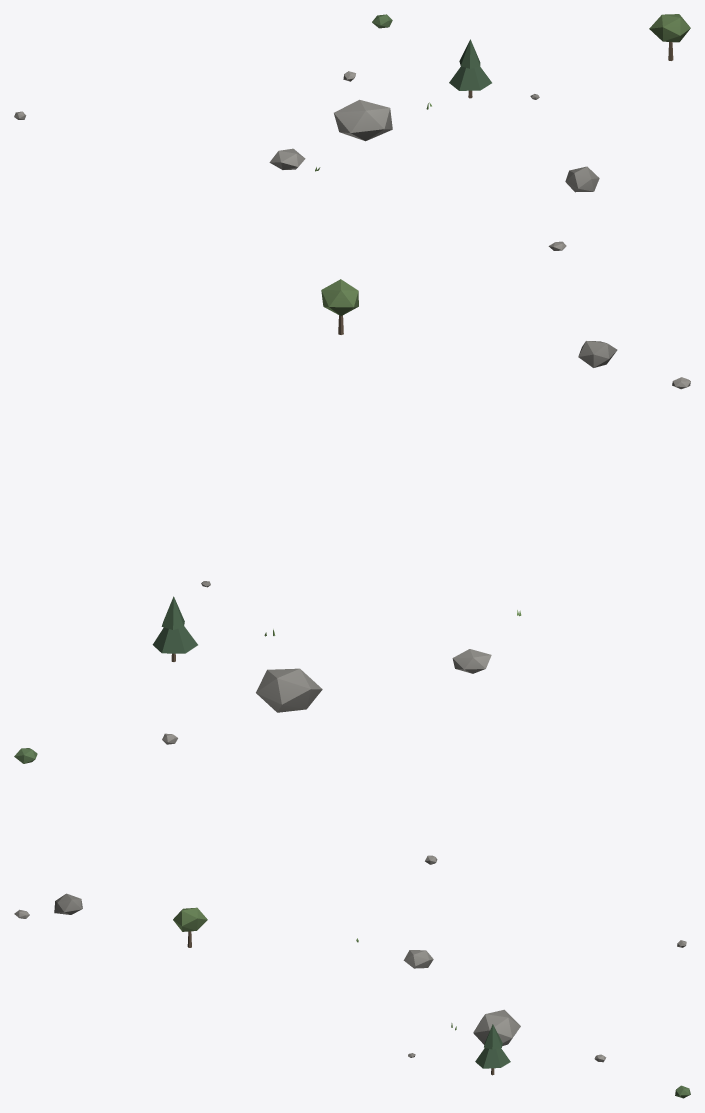
File: arch_land_scatter_c17_17_lod1.glb
3 views of the same model, one above another, from view 1: azimuth 30°, elevation 25°; view 2: azimuth 150°, elevation 25°; view 3: azimuth 270°, elevation 25° (orthographic). The views are drawn at different scales.
Visible parts, largest first — view 1: arch_land_scatter_c17_17_lod1; view 2: arch_land_scatter_c17_17_lod1; view 3: arch_land_scatter_c17_17_lod1.
Part boxes in pixels (x1,y1,x2,y2): arch_land_scatter_c17_17_lod1: [14, 14, 690, 250]; arch_land_scatter_c17_17_lod1: [14, 279, 690, 864]; arch_land_scatter_c17_17_lod1: [14, 893, 690, 1098].
Size of the model in its own units: 46.85 by 25.79 by 82.17.
